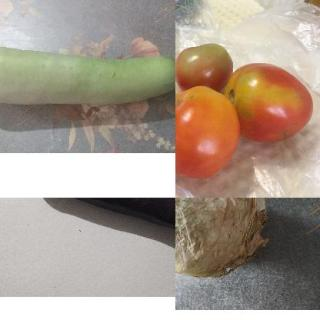Tomat: (175, 36, 316, 187)
